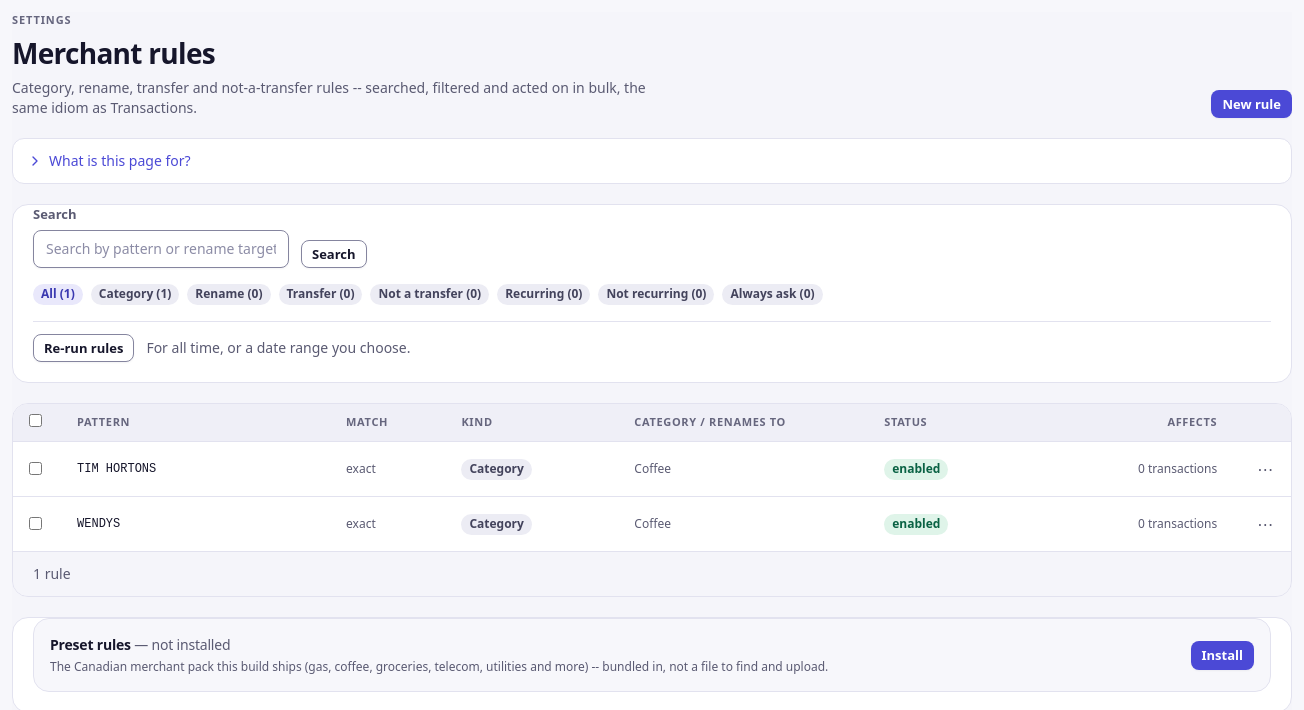
Test: MerchantRulesClient — multi-select and bulk delete states its real consequence (item 10) › selecting a row reveals the bulk toolbar with the right count
Click the checkbox named "Select rule TIM HORTONS".
click(36, 468)  # box [29, 462, 42, 475]
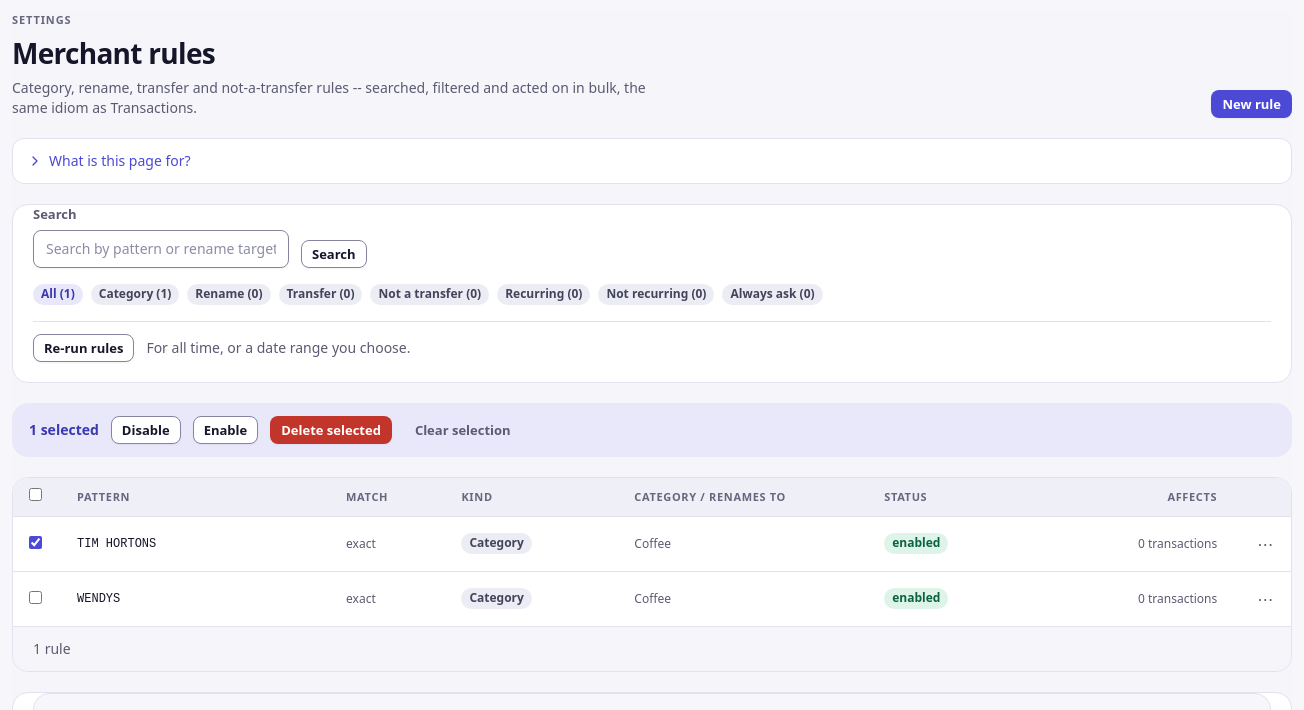
expect the text "1 selected" is shown: met, box [29, 420, 99, 440]
